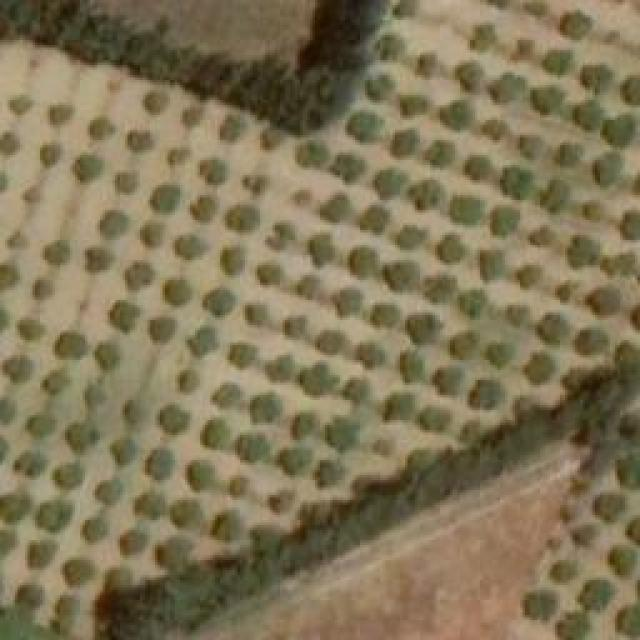Tree: (322, 415, 360, 453), (248, 521, 282, 558), (155, 535, 190, 570), (468, 380, 508, 410), (108, 298, 141, 333), (330, 150, 363, 185), (603, 113, 636, 148), (585, 285, 620, 318), (612, 337, 640, 378), (210, 510, 243, 543), (500, 168, 533, 201), (570, 98, 603, 131), (568, 235, 601, 268), (592, 150, 620, 188), (38, 500, 73, 530), (383, 260, 418, 290), (233, 433, 268, 463), (185, 458, 215, 493), (538, 178, 568, 213), (490, 73, 525, 103), (558, 10, 593, 40), (578, 580, 613, 610), (68, 423, 98, 456), (145, 448, 175, 481), (375, 170, 408, 200), (408, 313, 441, 343), (348, 245, 378, 278), (435, 233, 465, 266), (433, 365, 463, 398), (170, 500, 203, 530), (578, 63, 611, 93), (523, 590, 556, 620), (558, 610, 591, 640), (313, 460, 348, 488), (603, 250, 638, 278), (55, 330, 88, 358), (477, 250, 505, 283), (353, 340, 386, 368), (275, 447, 308, 475), (490, 205, 518, 238), (530, 87, 563, 115), (298, 499, 333, 525), (350, 110, 380, 140), (425, 273, 455, 303), (250, 393, 280, 423), (133, 490, 163, 520), (118, 528, 148, 558), (158, 405, 188, 435), (218, 113, 248, 143), (525, 353, 555, 383), (595, 493, 625, 523), (398, 348, 423, 383), (615, 453, 640, 488), (0, 355, 32, 382), (0, 492, 30, 520), (28, 540, 58, 568), (65, 557, 95, 585), (25, 412, 55, 440), (40, 370, 70, 398), (302, 363, 330, 393), (415, 180, 445, 208), (265, 222, 295, 250), (395, 222, 425, 250), (458, 290, 488, 318), (450, 330, 480, 358), (290, 410, 318, 440), (200, 417, 230, 445), (440, 102, 470, 130), (538, 315, 568, 343), (575, 327, 605, 355), (455, 60, 480, 93), (615, 605, 640, 638), (405, 445, 435, 472), (110, 437, 138, 465), (147, 315, 175, 343), (85, 245, 113, 273), (205, 287, 233, 315), (150, 182, 178, 210), (322, 192, 350, 220), (385, 392, 413, 420), (257, 125, 285, 153), (462, 152, 490, 180), (452, 195, 480, 223), (555, 140, 583, 168), (13, 453, 46, 476), (95, 340, 120, 370), (125, 260, 150, 290), (298, 140, 328, 165), (420, 405, 450, 430), (88, 115, 118, 140), (545, 48, 570, 78), (610, 548, 635, 578), (15, 583, 43, 608), (162, 278, 190, 303), (313, 230, 333, 265), (190, 327, 215, 355), (365, 75, 393, 100), (363, 205, 388, 233), (487, 343, 515, 368), (210, 383, 238, 408), (267, 490, 295, 515), (48, 102, 73, 130), (125, 130, 153, 155), (467, 25, 495, 50), (515, 262, 540, 290), (550, 558, 578, 583), (555, 499, 580, 527), (83, 380, 106, 410), (617, 210, 640, 240), (55, 463, 83, 486), (52, 593, 80, 616), (123, 397, 146, 425), (17, 318, 45, 341), (227, 205, 255, 228), (338, 287, 361, 315), (193, 195, 216, 223), (370, 303, 398, 326), (268, 355, 293, 380), (103, 210, 128, 235), (428, 140, 453, 165), (143, 90, 168, 115), (619, 410, 640, 439), (103, 568, 133, 588), (620, 75, 640, 105), (525, 225, 555, 245), (373, 440, 397, 464), (83, 518, 108, 541), (230, 343, 255, 366), (178, 235, 203, 258), (45, 238, 68, 263), (78, 155, 101, 180), (343, 378, 368, 401), (180, 105, 203, 130), (520, 135, 543, 160), (480, 118, 505, 141), (583, 198, 608, 221), (0, 262, 20, 290), (242, 175, 270, 195), (7, 95, 35, 115), (400, 97, 430, 115), (200, 160, 223, 183), (510, 40, 533, 63), (375, 35, 398, 58), (0, 130, 18, 158), (95, 480, 120, 500), (318, 330, 343, 350), (228, 473, 248, 498), (178, 368, 198, 393), (40, 143, 60, 168), (258, 263, 281, 283), (300, 275, 320, 298), (143, 223, 163, 246), (115, 170, 135, 193), (393, 130, 413, 153), (415, 53, 435, 76), (555, 280, 575, 303), (573, 525, 596, 545), (50, 620, 75, 638), (222, 248, 240, 273), (390, 0, 415, 18), (625, 515, 640, 545), (0, 532, 15, 560), (5, 230, 28, 248), (285, 318, 305, 338), (525, 0, 545, 20), (508, 305, 528, 325), (33, 280, 53, 298), (247, 303, 265, 323), (20, 185, 40, 203), (0, 400, 15, 423), (170, 148, 190, 163), (631, 308, 640, 329)
